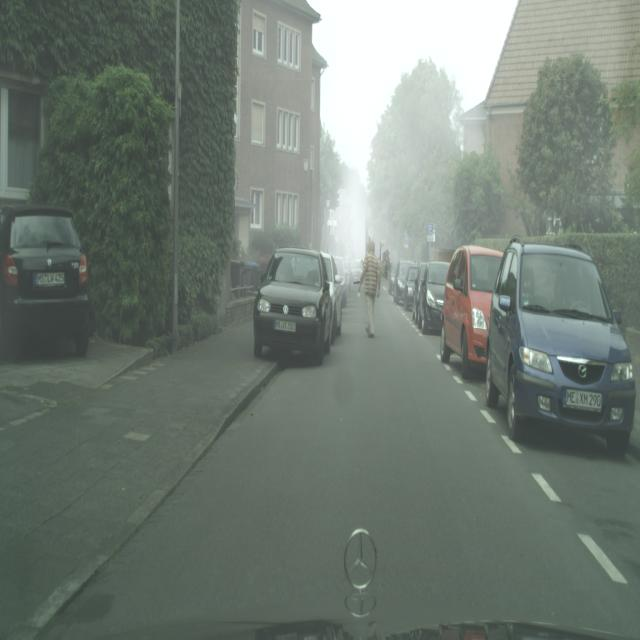bus: (484, 236, 637, 457), (0, 204, 90, 359), (252, 246, 333, 364), (439, 244, 503, 379), (412, 261, 450, 333), (320, 249, 344, 341), (333, 254, 350, 308), (393, 259, 412, 306), (402, 262, 419, 311), (388, 261, 399, 296), (350, 259, 362, 282)
person: (358, 241, 381, 338)
